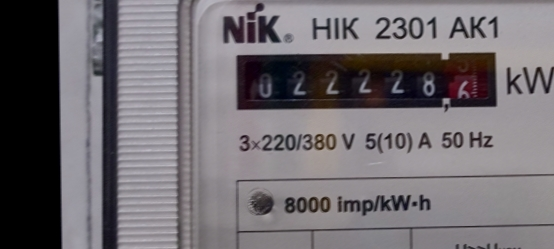0: (257, 68, 273, 97)
2: (290, 66, 308, 95), (389, 65, 407, 94), (324, 65, 340, 94), (356, 65, 373, 92)
5: (455, 52, 471, 72)
6: (455, 75, 472, 97)
8: (421, 67, 436, 95)
screen: (228, 38, 506, 117)
